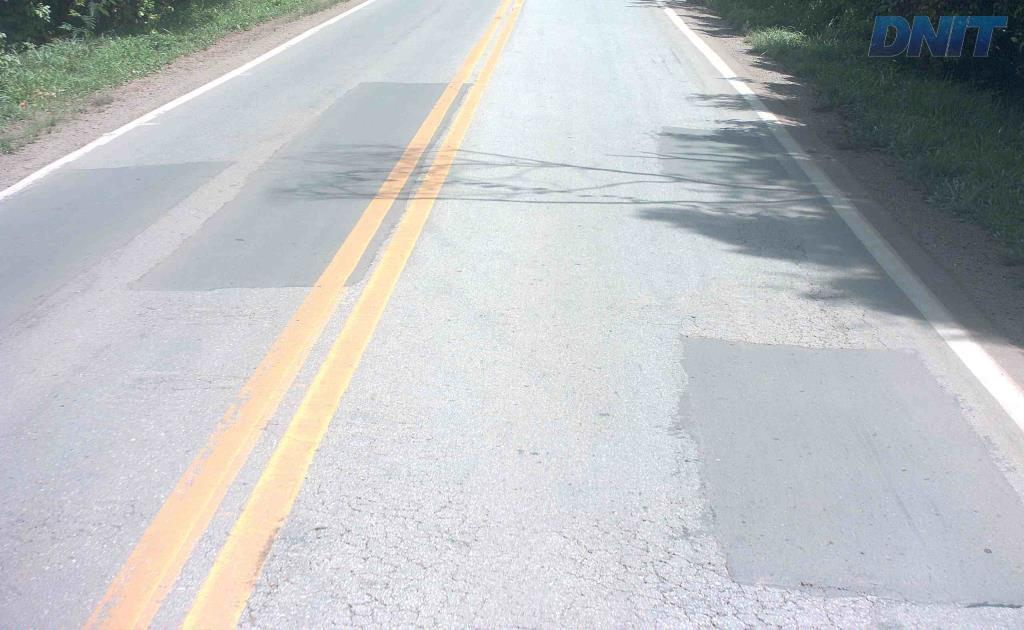crack: (336, 522, 425, 552), (345, 580, 390, 629), (433, 522, 491, 550)
